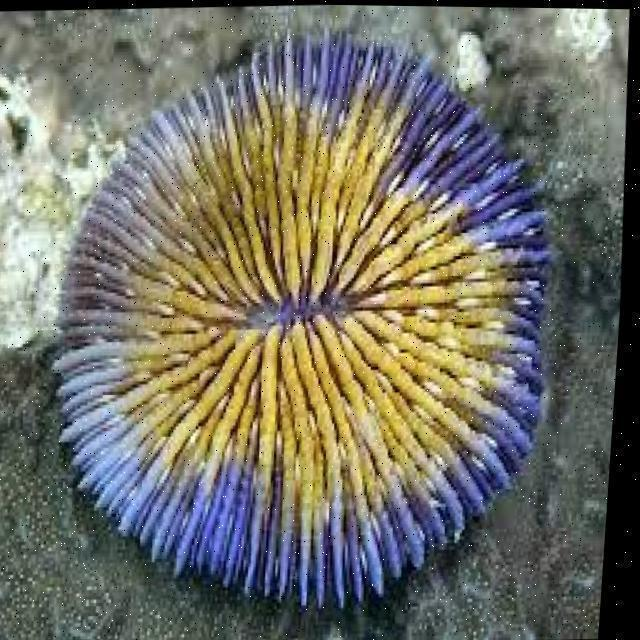Healthy Coral: (28, 5, 589, 636)
